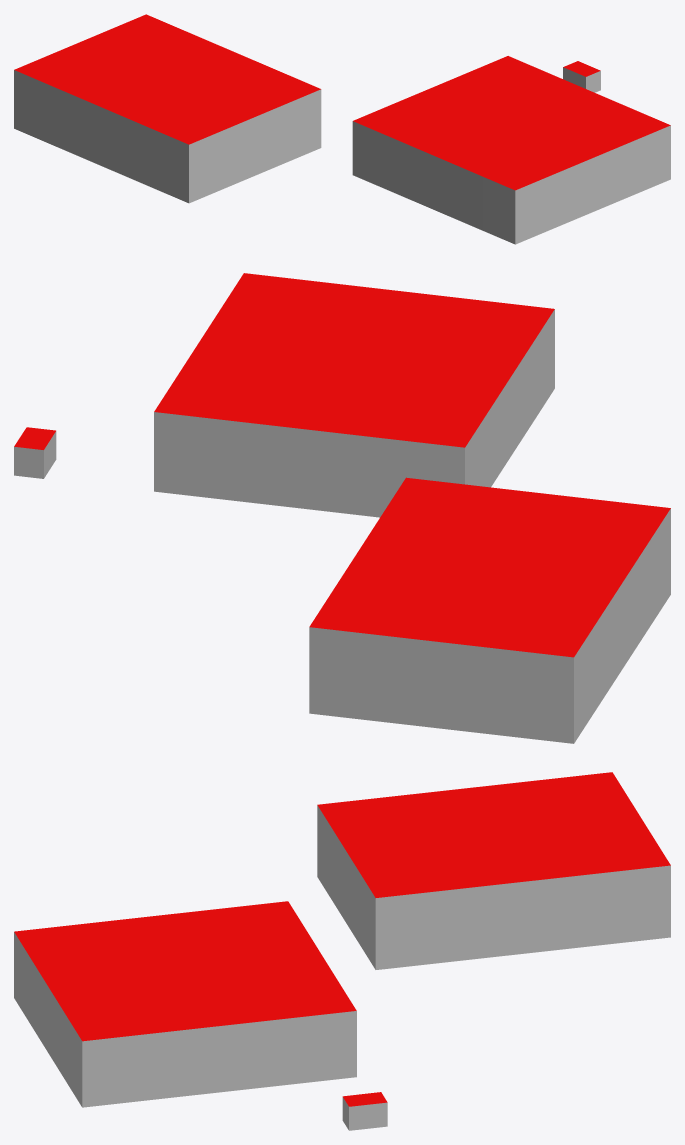
3 renders of one model, top to bottom at view 1: azimuth 30°, elevation 25°; view 2: azimuth 150°, elevation 25°; view 3: azimuth 270°, elevation 25°, orthographic. The views are drawn at different scales.
Size of the model in its own units: 71.13 by 8.33 by 68.88.
